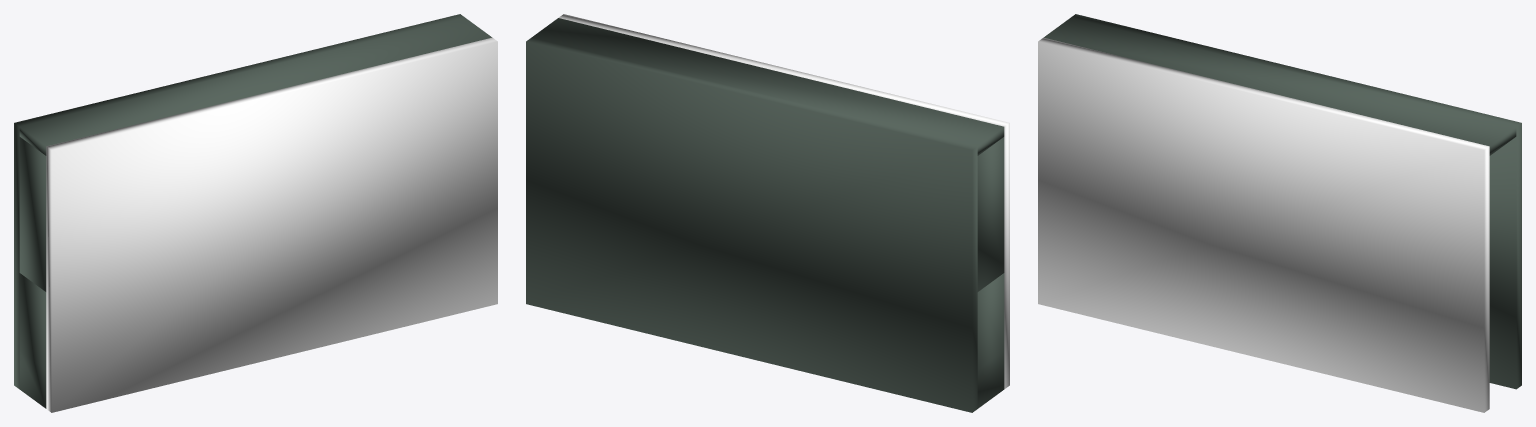
Rendered from homeout.gltf.
3 renders of one model, left to right at view 1: azimuth 30°, elevation 25°; view 2: azimuth 150°, elevation 25°; view 3: azimuth 330°, elevation 25°, orthographic.
Parts seen in each view (by area): view 1: mesh2_noesis_meshnode_0002, mesh0_noesis_meshnode_0000, mesh3_noesis_meshnode_0003; view 2: mesh0_noesis_meshnode_0000, mesh2_noesis_meshnode_0002, mesh3_noesis_meshnode_0003; view 3: mesh2_noesis_meshnode_0002, mesh0_noesis_meshnode_0000.
Boxes of the visible parts, bbox=[...] form: mesh2_noesis_meshnode_0002: bbox=[46, 37, 497, 412]; mesh0_noesis_meshnode_0000: bbox=[14, 14, 491, 408]; mesh3_noesis_meshnode_0003: bbox=[19, 137, 46, 291]; mesh0_noesis_meshnode_0000: bbox=[526, 18, 1004, 412]; mesh2_noesis_meshnode_0002: bbox=[558, 14, 1009, 389]; mesh3_noesis_meshnode_0003: bbox=[977, 137, 1004, 291]; mesh2_noesis_meshnode_0002: bbox=[1038, 37, 1489, 412]; mesh0_noesis_meshnode_0000: bbox=[1044, 14, 1521, 389].
Size of the model in its own units: 1536 by 864 by 224.
4 materials, 2 textured.
